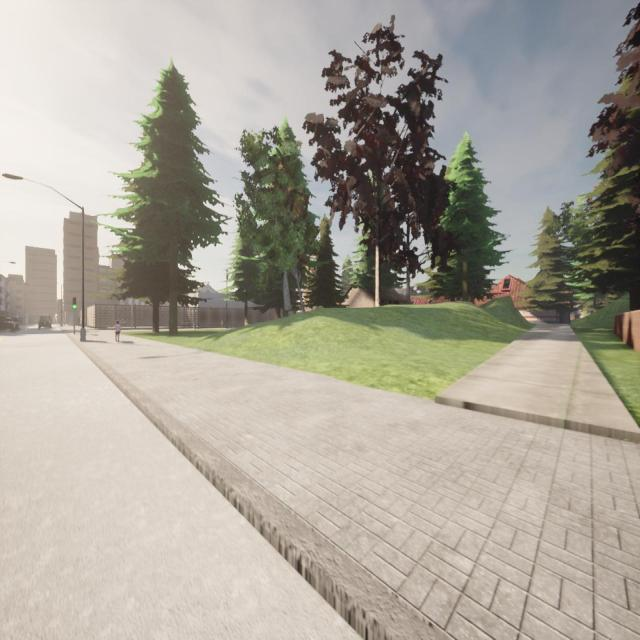Pedestrian: (115, 320, 121, 342)
Vehicle: (1, 317, 17, 331), (38, 315, 52, 330)
traffic_light: (72, 298, 77, 309)
